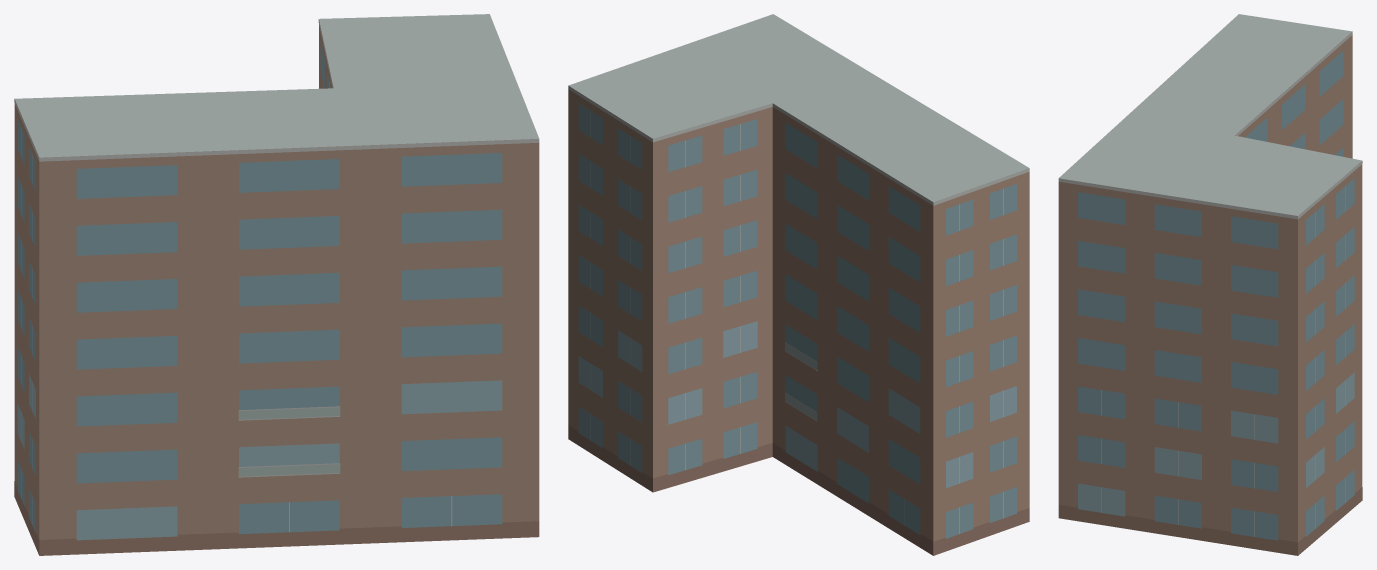
The model's file is survey-upis-32522284.glb.
3 views of the same model, side by side, from view 1: azimuth 30°, elevation 25°; view 2: azimuth 150°, elevation 25°; view 3: azimuth 270°, elevation 25° (orthographic). The views are drawn at different scales.
Visible parts, largest first — view 1: survey-upis-32522284.tmp; view 2: survey-upis-32522284.tmp; view 3: survey-upis-32522284.tmp.
Boxes of the visible parts, left/top/right/bottom form: survey-upis-32522284.tmp: left=14, top=14, right=539, bottom=555; survey-upis-32522284.tmp: left=568, top=14, right=1029, bottom=555; survey-upis-32522284.tmp: left=1058, top=14, right=1362, bottom=555.
Size of the model in its own units: 31.11 by 24.4 by 19.78.
